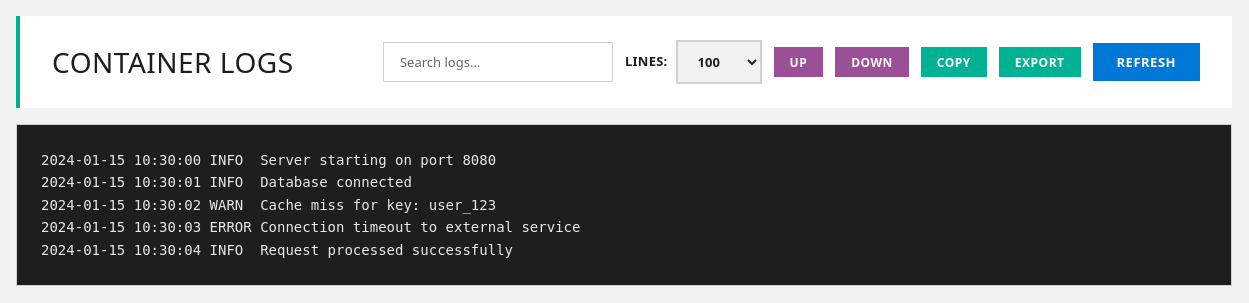
LogsView › search functionality › filters logs by search term
Expected: the text "Server starting" is shown, [41, 152, 580, 258]
Step 1. Type "ERROR" into the field with placeholder "Search logs..." → [498, 62], box [383, 42, 613, 82]
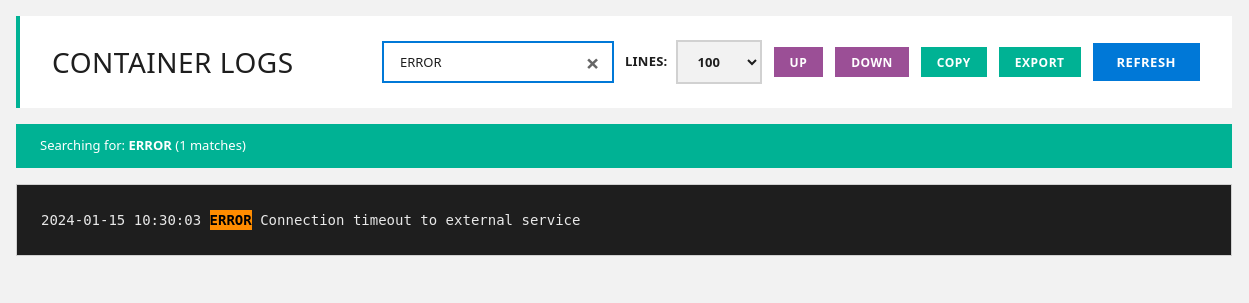
Now the text "Searching for: ERROR (1 matches)" is shown, box [16, 124, 1232, 168]
